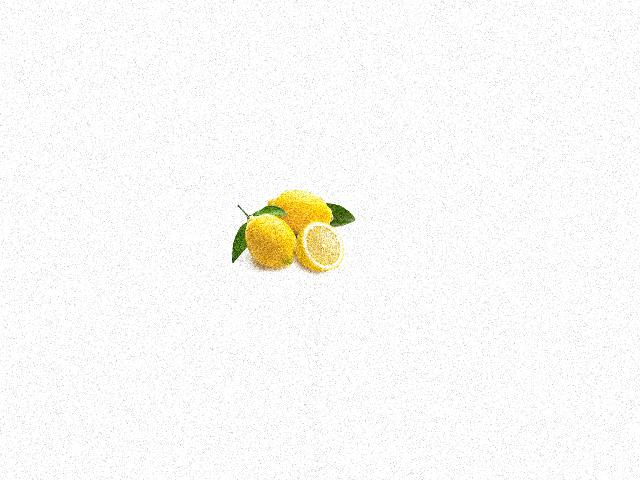lemon: (264, 187, 330, 237)
